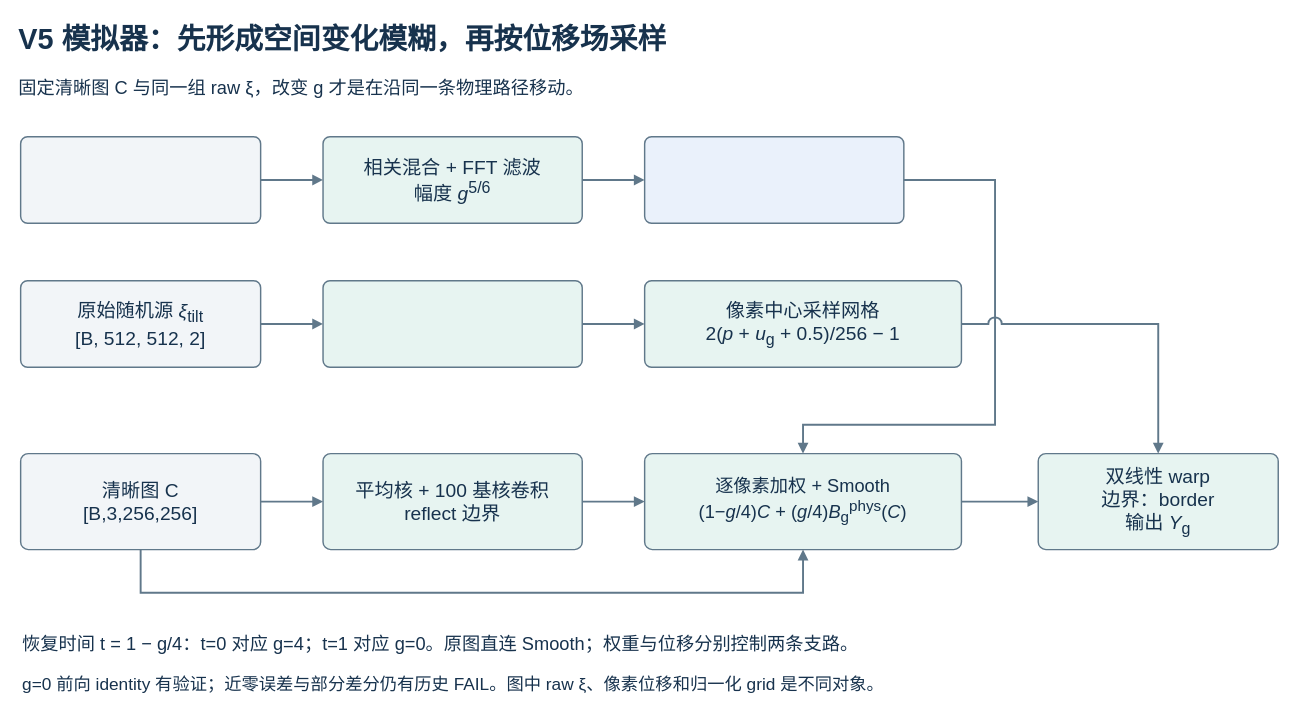
Some shapes in this 1308 by 716 pixel diagram are drawn without their labels. The shapes that lost their labels are listed below. From the top down, each one's box as (x1, y1, x2, y2) in pixels, then its label:
(19, 136, 261, 223): 原始随机源 ξ z [B, 36, 512, 512]
(643, 136, 904, 223): 冻结 P2S：36 → 100 每像素 PSF 基权重
(322, 280, 583, 367): g 5/6 缩放 + 完整复 IFFT 取实部 → 像素位移 u g
